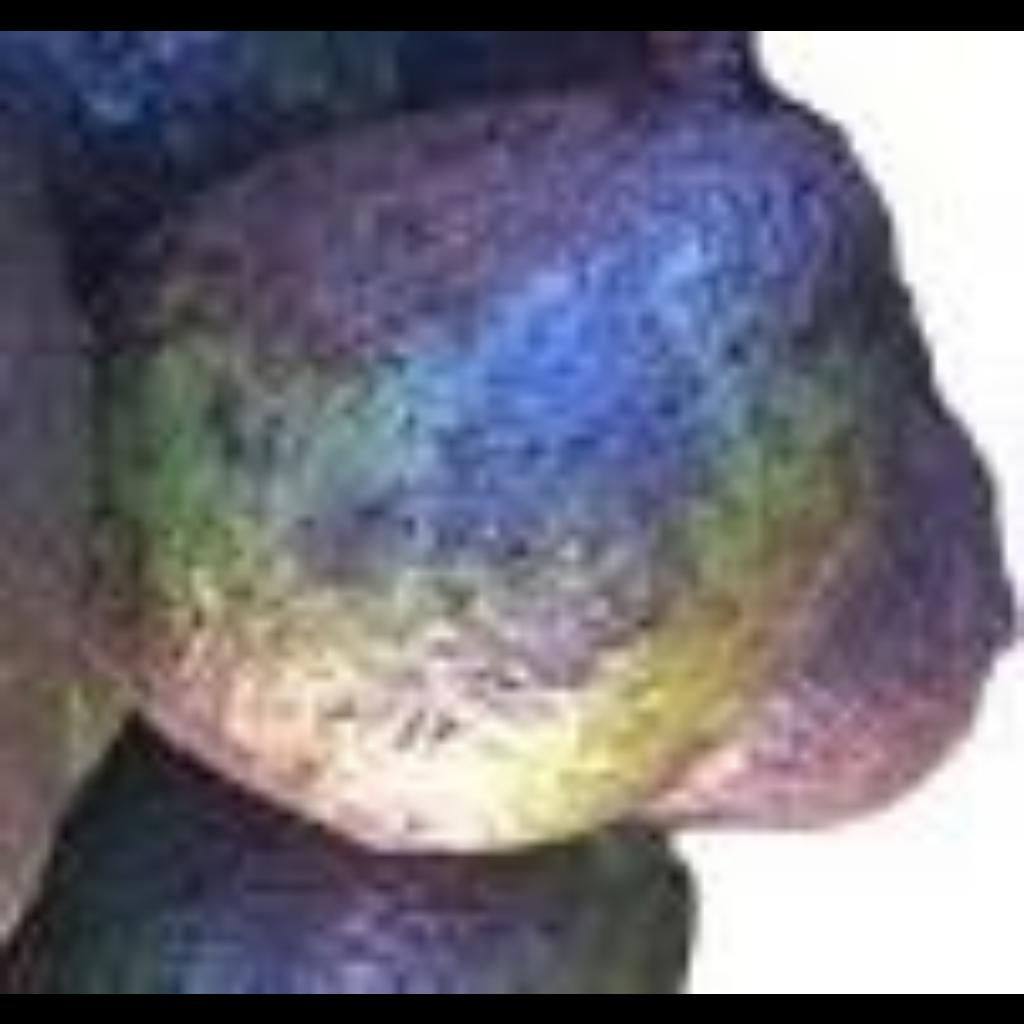Anthracnose: (122, 111, 892, 811)
